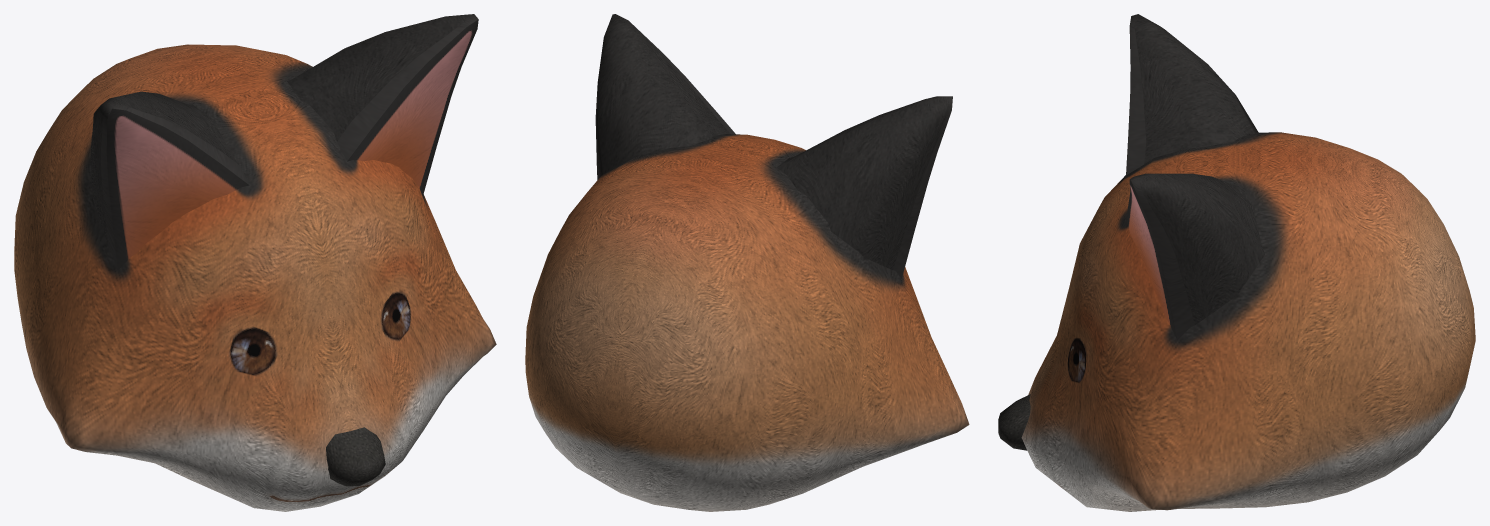
Rendered from CRT0110011.FBX.
3 views of the same model, side by side, from view 1: azimuth 30°, elevation 25°; view 2: azimuth 150°, elevation 25°; view 3: azimuth 270°, elevation 25° (orthographic). The views are drawn at different scales.
Visible parts, largest first — view 1: smCRT0110011; view 2: smCRT0110011; view 3: smCRT0110011.
Part boxes in pixels (x1,y1,x2,y2): smCRT0110011: [14, 14, 496, 511]; smCRT0110011: [525, 14, 969, 511]; smCRT0110011: [998, 14, 1475, 511].
Bounding box in the file's own units: 0.1063 × 0.1024 × 0.1119.
Materials: 1 (1 with a texture image).
